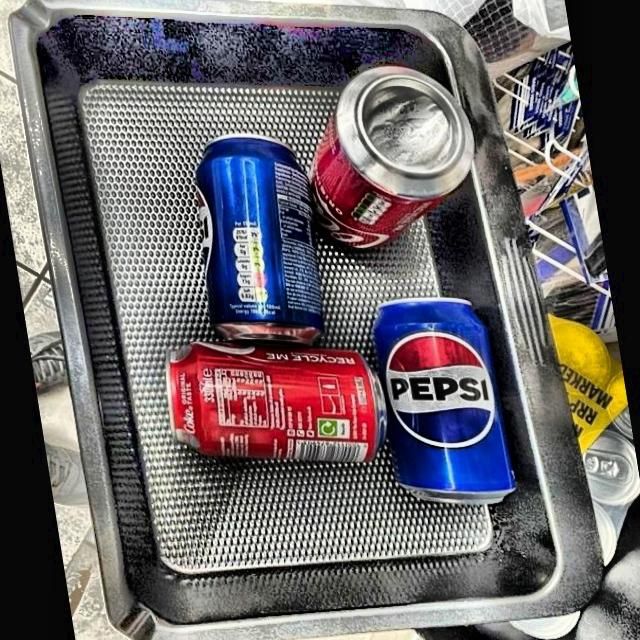coke-can: (316, 66, 475, 252), (163, 344, 388, 464)
pepsi-can: (370, 294, 520, 514), (190, 132, 328, 344)
